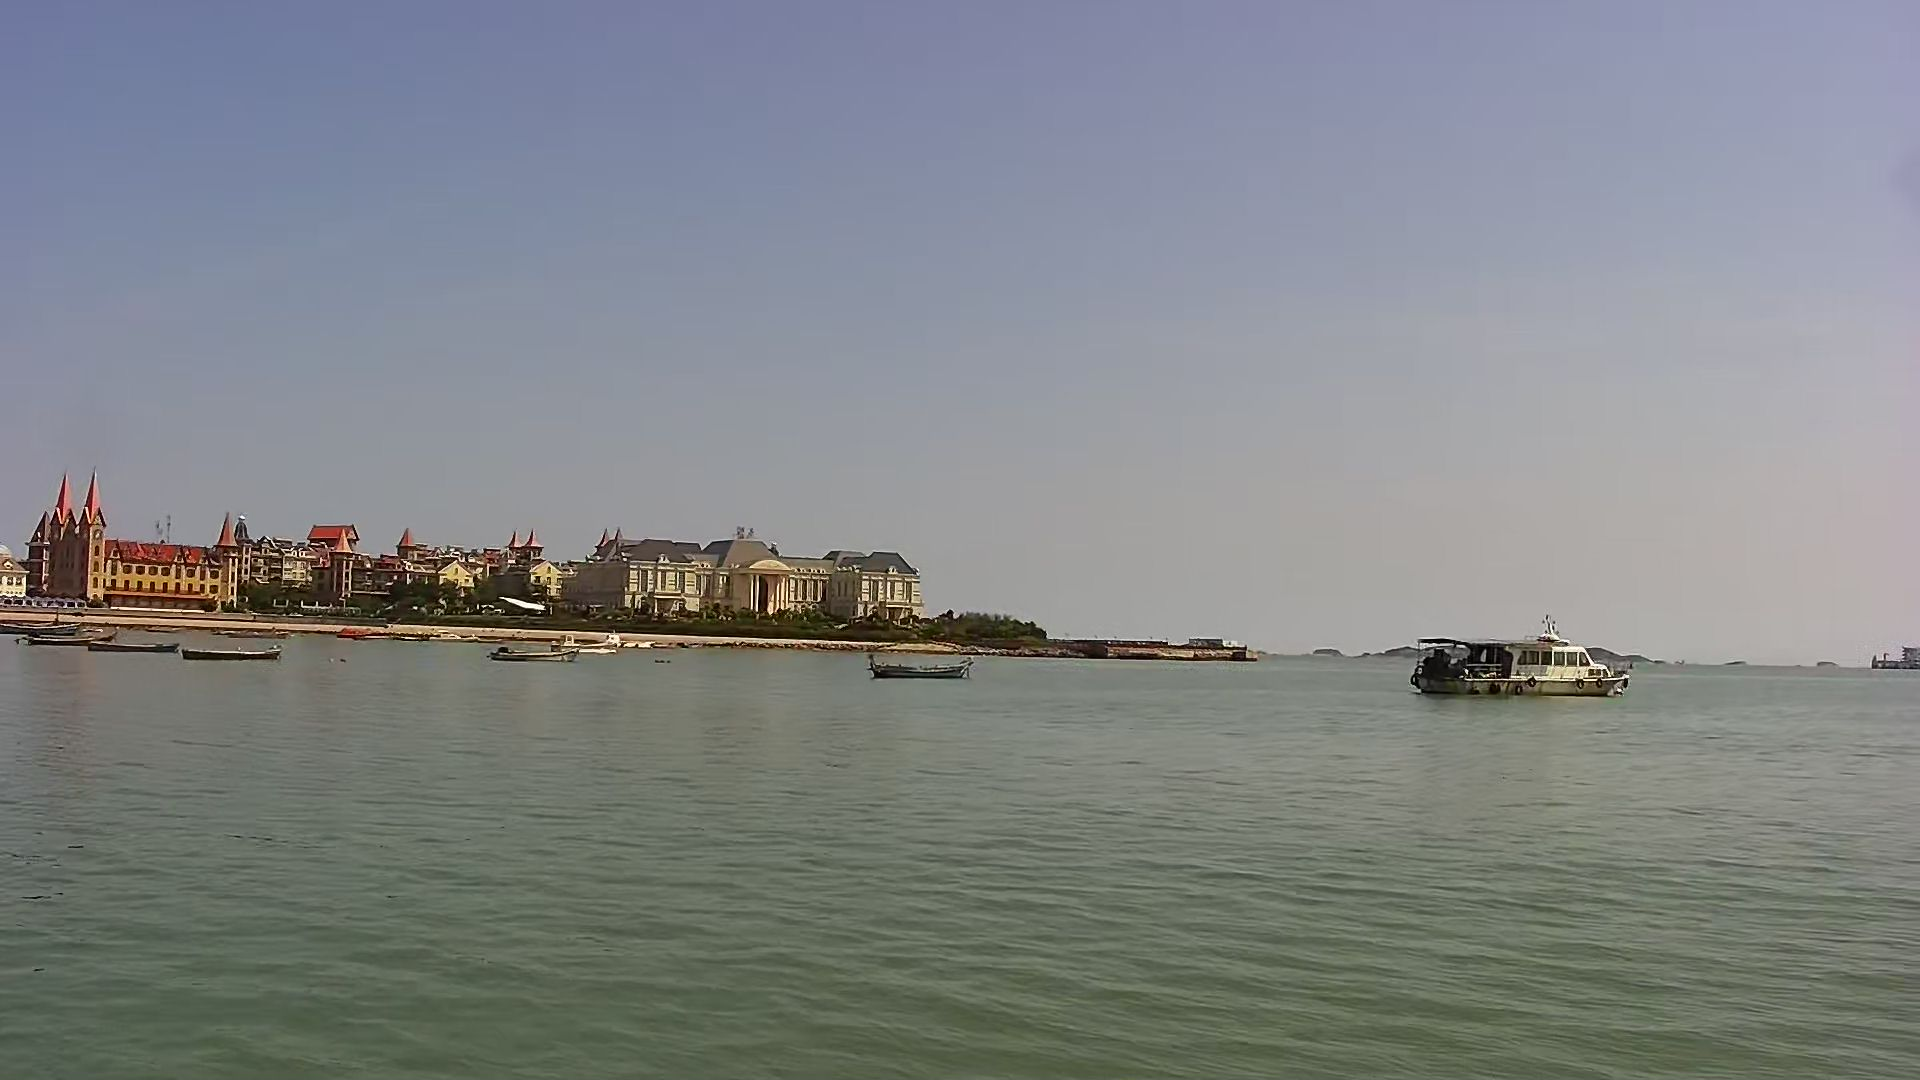boat: (866, 647, 975, 678), (21, 624, 128, 650), (487, 638, 588, 665), (178, 644, 286, 663), (84, 640, 179, 658)
ship: (1408, 611, 1633, 700)
